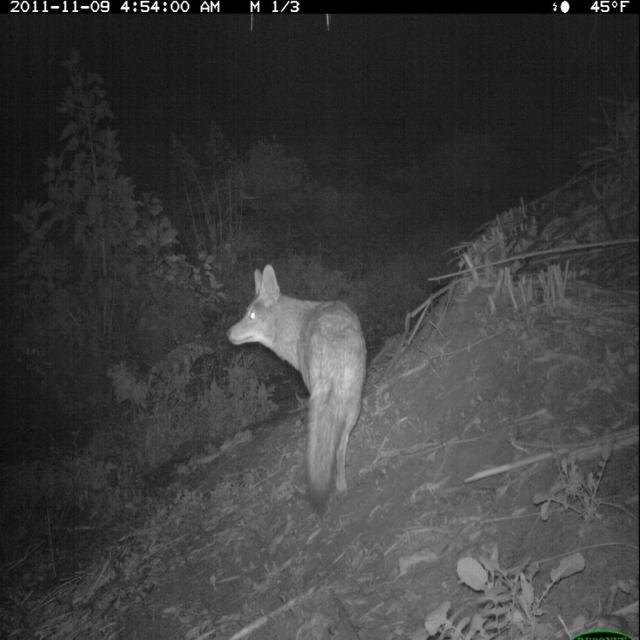coyote: (222, 259, 374, 529)
